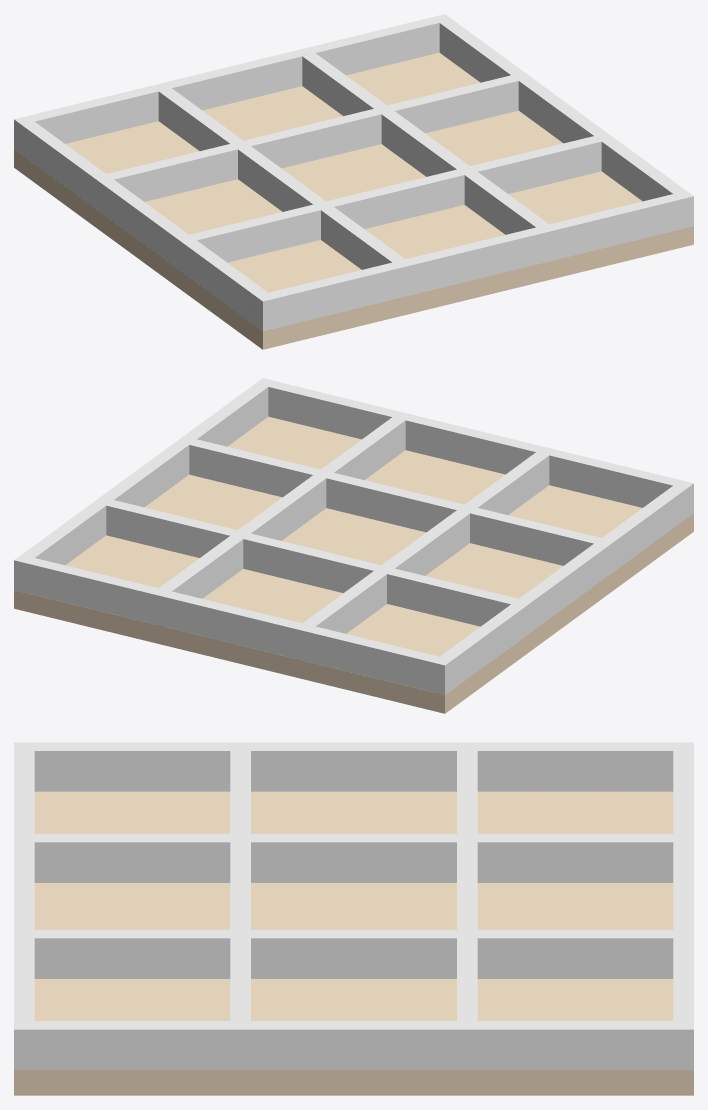
Rendered from level01Model.glb.
3 views of the same model, one above another, from view 1: azimuth 30°, elevation 25°; view 2: azimuth 150°, elevation 25°; view 3: azimuth 270°, elevation 25° (orthographic). The views are drawn at different scales.
Parts seen in each view (by area): view 1: Ground, UndestructibleBlock.007, UndestructibleBlock.008, UndestructibleBlock.004, UndestructibleBlock.003, UndestructibleBlock.005, UndestructibleBlock.001, UndestructibleBlock.006, UndestructibleBlock.002; view 2: Ground, UndestructibleBlock.008, UndestructibleBlock.004, UndestructibleBlock.003, UndestructibleBlock.007, UndestructibleBlock.005, UndestructibleBlock.006, UndestructibleBlock.002, UndestructibleBlock.001; view 3: Ground, UndestructibleBlock.006, UndestructibleBlock.002, UndestructibleBlock.001, UndestructibleBlock.005, UndestructibleBlock.008, UndestructibleBlock.007, UndestructibleBlock.004, UndestructibleBlock.003.
Part boxes in pixels (x1,y1,x2,y2): Ground: [14, 52, 693, 349]; UndestructibleBlock.007: [255, 194, 693, 327]; UndestructibleBlock.008: [14, 14, 451, 154]; UndestructibleBlock.004: [176, 136, 601, 272]; UndestructibleBlock.003: [93, 75, 518, 212]; UndestructibleBlock.005: [21, 121, 275, 330]; UndestructibleBlock.001: [158, 88, 412, 297]; UndestructibleBlock.006: [432, 14, 693, 201]; UndestructibleBlock.002: [302, 53, 556, 257]; Ground: [14, 416, 693, 713]; UndestructibleBlock.008: [15, 555, 452, 694]; UndestructibleBlock.004: [189, 439, 614, 576]; UndestructibleBlock.003: [106, 500, 531, 636]; UndestructibleBlock.007: [268, 381, 693, 514]; UndestructibleBlock.005: [432, 480, 693, 694]; UndestructibleBlock.006: [14, 378, 275, 592]; UndestructibleBlock.002: [151, 411, 412, 626]; UndestructibleBlock.001: [295, 447, 555, 661]; Ground: [14, 791, 693, 1095]; UndestructibleBlock.006: [14, 1021, 693, 1070]; UndestructibleBlock.002: [14, 929, 673, 978]; UndestructibleBlock.001: [14, 833, 673, 882]; UndestructibleBlock.005: [14, 742, 673, 791]; UndestructibleBlock.008: [673, 742, 693, 1070]; UndestructibleBlock.007: [14, 744, 34, 1070]; UndestructibleBlock.004: [230, 742, 250, 1069]; UndestructibleBlock.003: [457, 742, 477, 1069].
Size of the model in its own units: 288 by 30.9 by 288.
